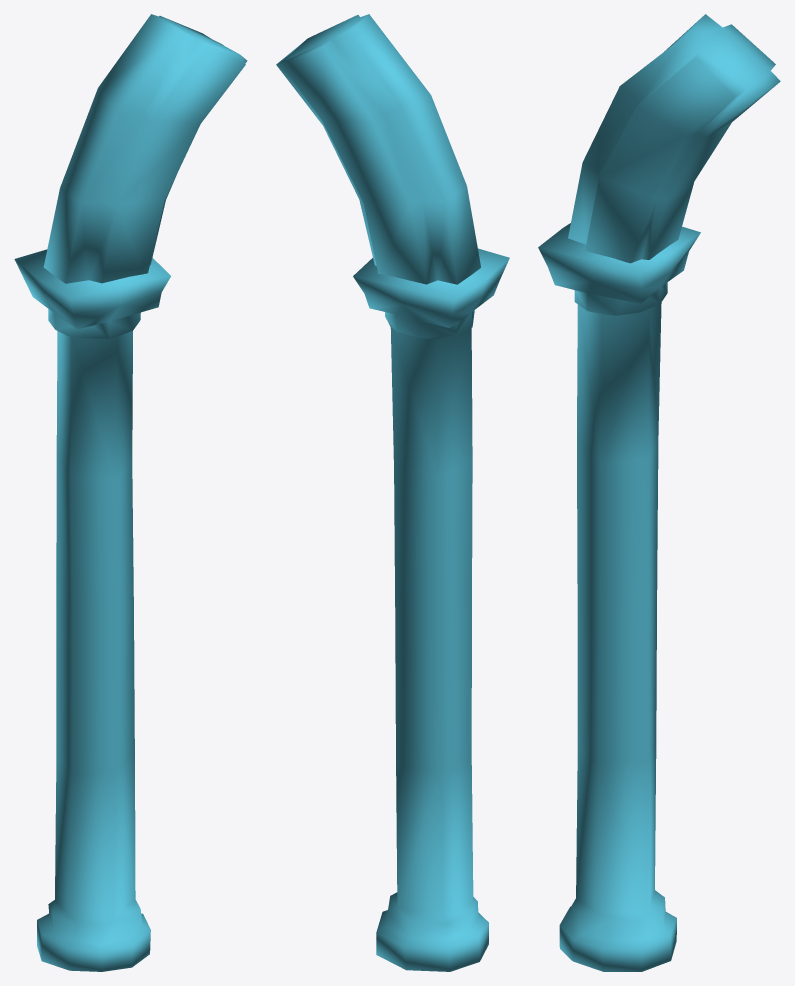
File: arc_004.FBX
3 renders of one model, left to right at view 1: azimuth 30°, elevation 25°; view 2: azimuth 150°, elevation 25°; view 3: azimuth 330°, elevation 25°, orthographic. The views are drawn at different scales.
Parts seen in each view (by area): view 1: arc_004; view 2: arc_004; view 3: arc_004.
Boxes of the visible parts, x1,y1,x2,y2 form: arc_004: [14, 14, 247, 971]; arc_004: [276, 14, 509, 971]; arc_004: [538, 14, 780, 971].
Size of the model in its own units: 65.57 by 292 by 34.24.
